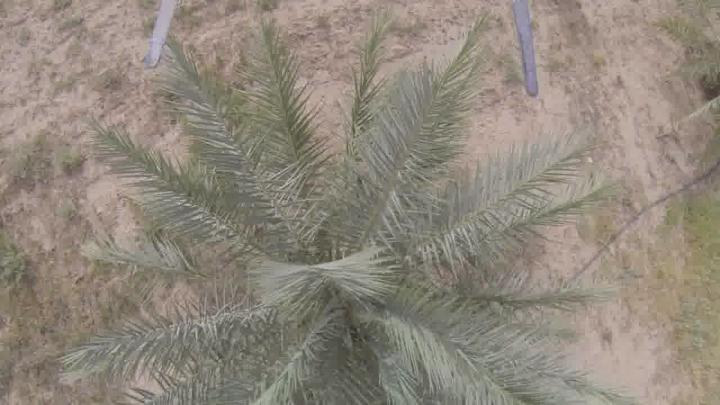Date-Palm-Crown: (194, 148, 474, 404)
